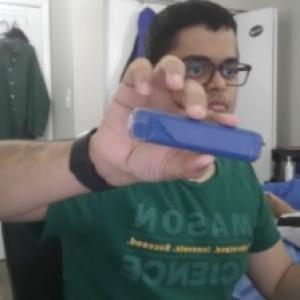Diamond-E-Ciggirate: (125, 104, 273, 165)
